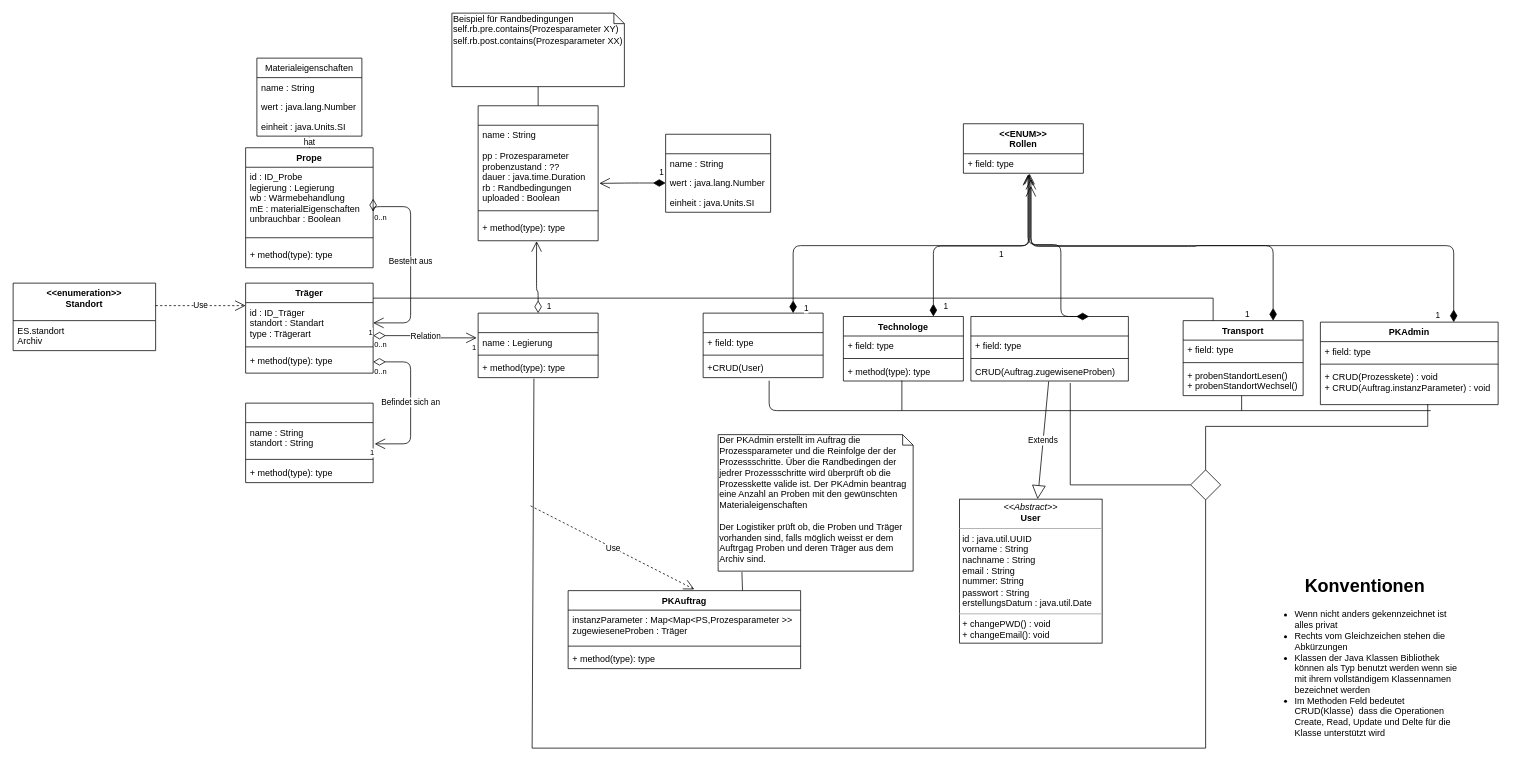
This 1526x764 diagram has some shape labels left out. The shapes that lost their labels are listed below. From the top down, each one's box as (x1, y1, x2, y2) in pixels, then its label:
(477, 105, 598, 241): Prozesschritt = PS
(665, 134, 771, 212): Prozesparameter
(477, 312, 598, 378): Prozesskette = PK
(702, 312, 823, 378): Admin
(970, 316, 1128, 381): Logistik
(245, 402, 373, 483): Experimentierstation = ES
